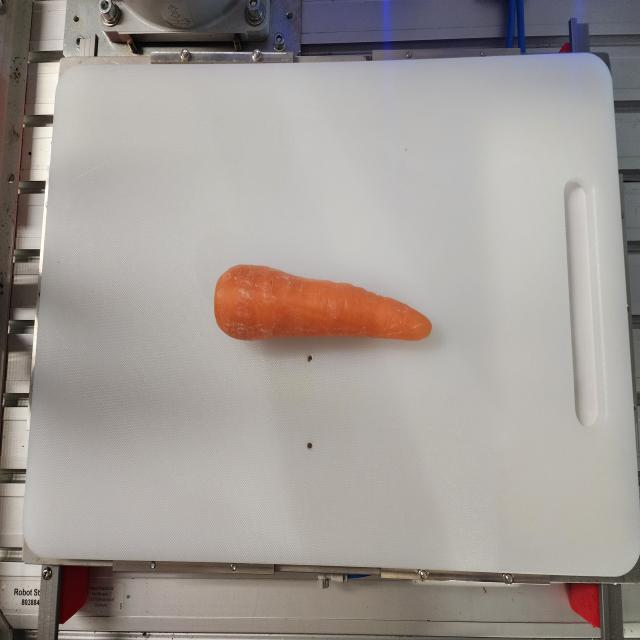carrot: (213, 263, 432, 342)
